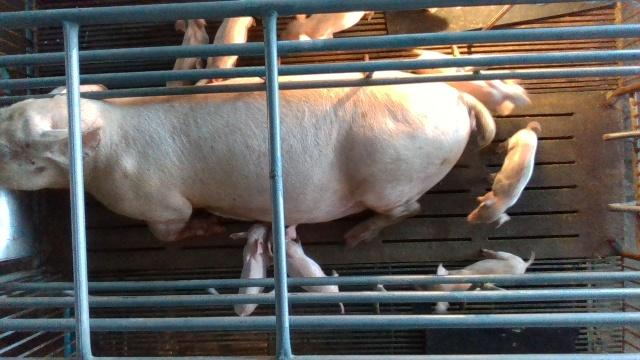piglet: (412, 50, 531, 116), (467, 121, 541, 227), (429, 248, 537, 291), (196, 16, 257, 82), (229, 224, 269, 317), (286, 225, 339, 292), (166, 19, 210, 87), (280, 11, 376, 41)
sow-sleep: (0, 68, 496, 245)
